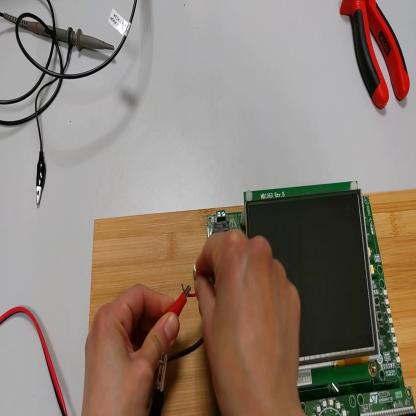hand: (193, 227, 306, 409), (82, 282, 180, 416)
low voltage board: (159, 182, 416, 416)
oscilloscope probe tip: (4, 16, 117, 53)
pliers: (341, 1, 410, 110)
working area: (92, 189, 415, 415)
